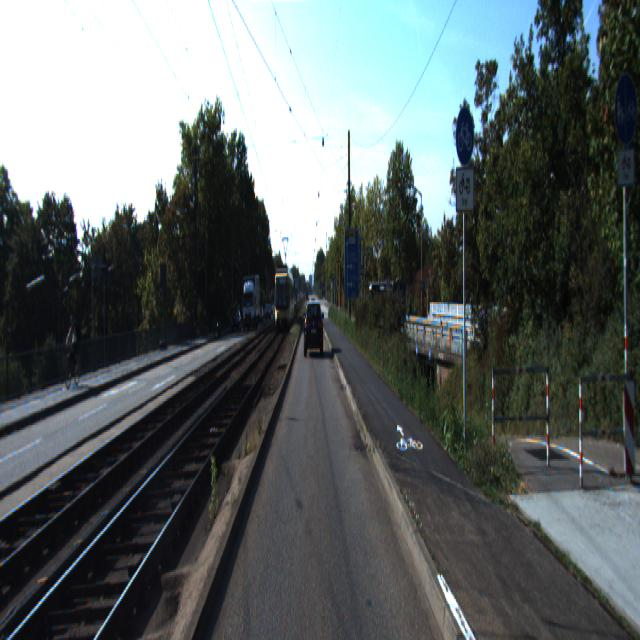Car: (368, 281, 407, 335), (273, 261, 292, 333), (242, 275, 260, 333), (304, 300, 322, 357)
